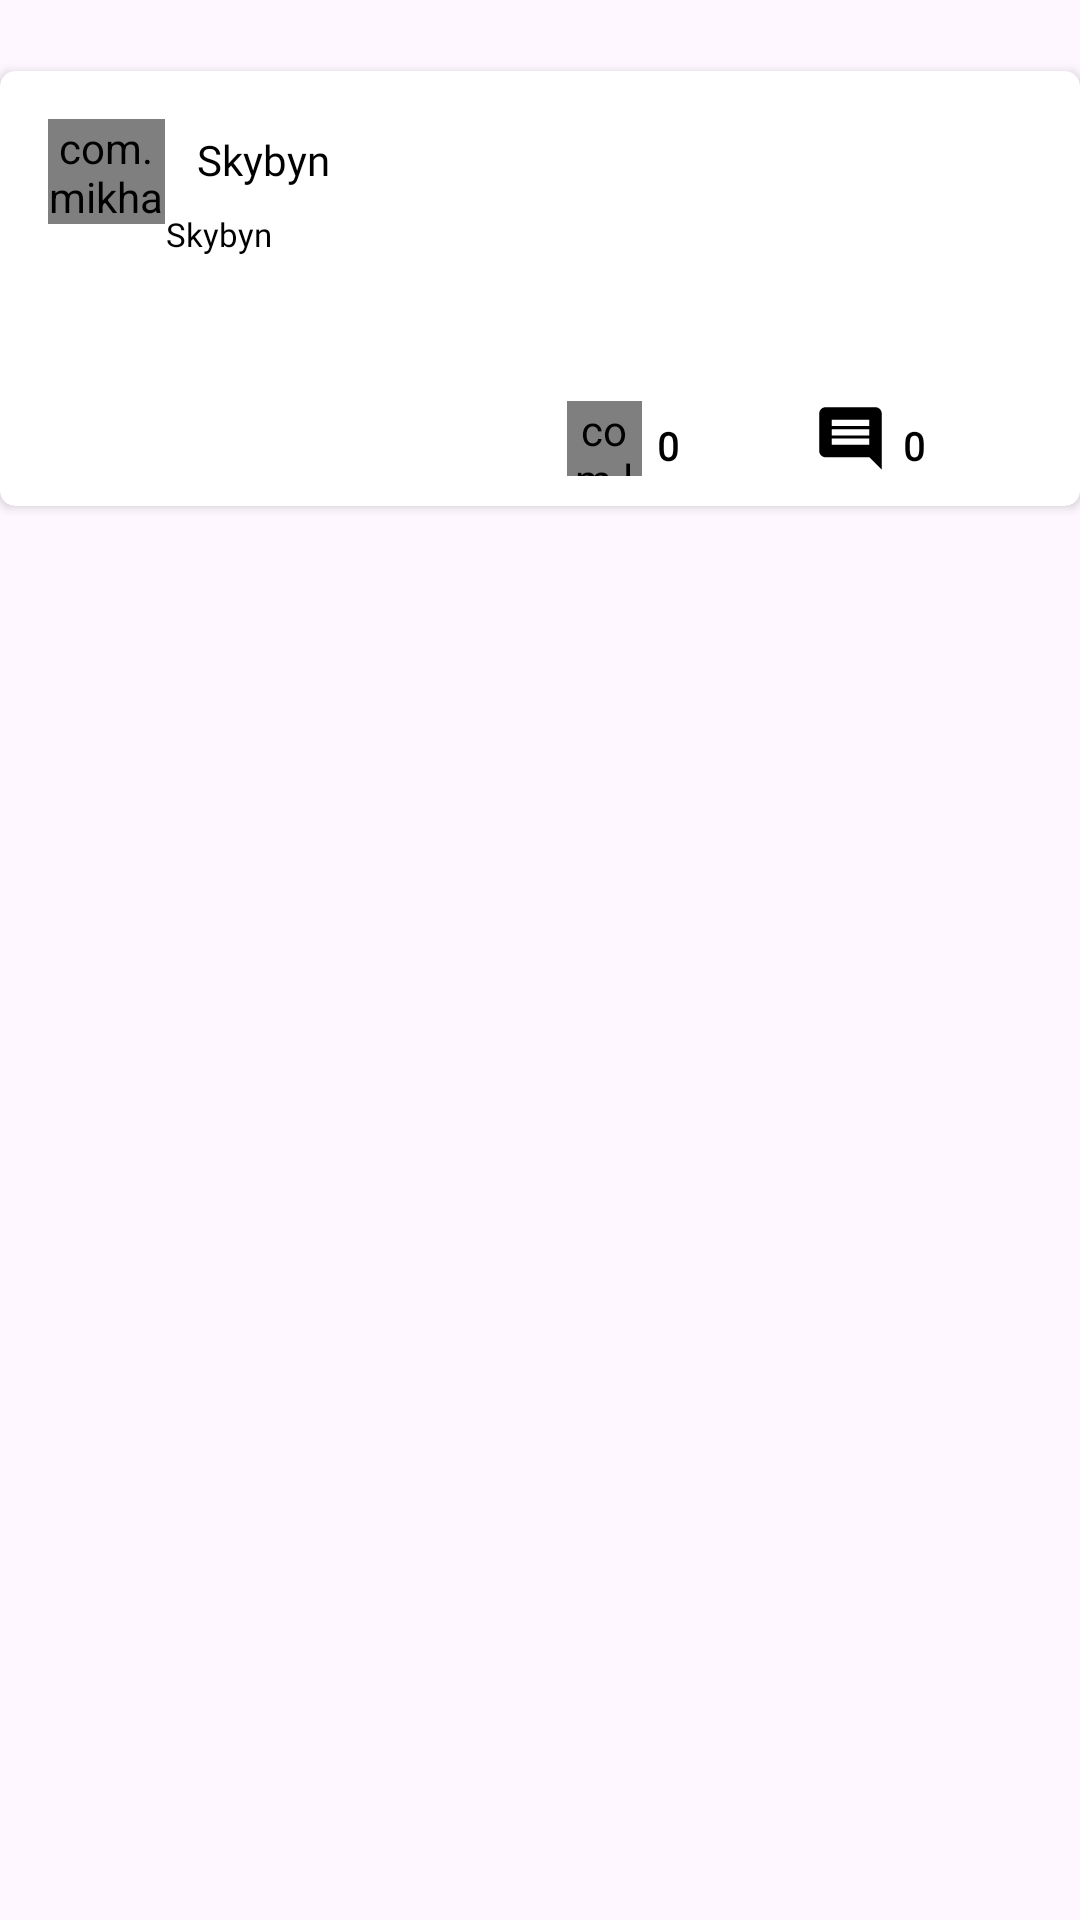

Named icons in this screenshot (1080 x 1920) and their centers, point (x, y):
comment: point (850, 438)
